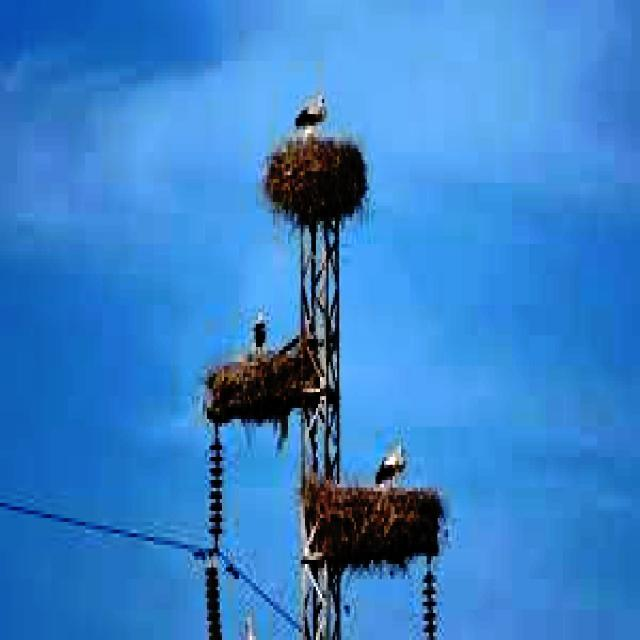obstruction: (305, 480, 442, 560), (205, 335, 318, 419), (262, 137, 365, 221)
poles: (301, 221, 337, 636), (205, 423, 220, 636), (422, 560, 433, 636)
wires: (0, 499, 209, 556), (220, 552, 297, 625)
